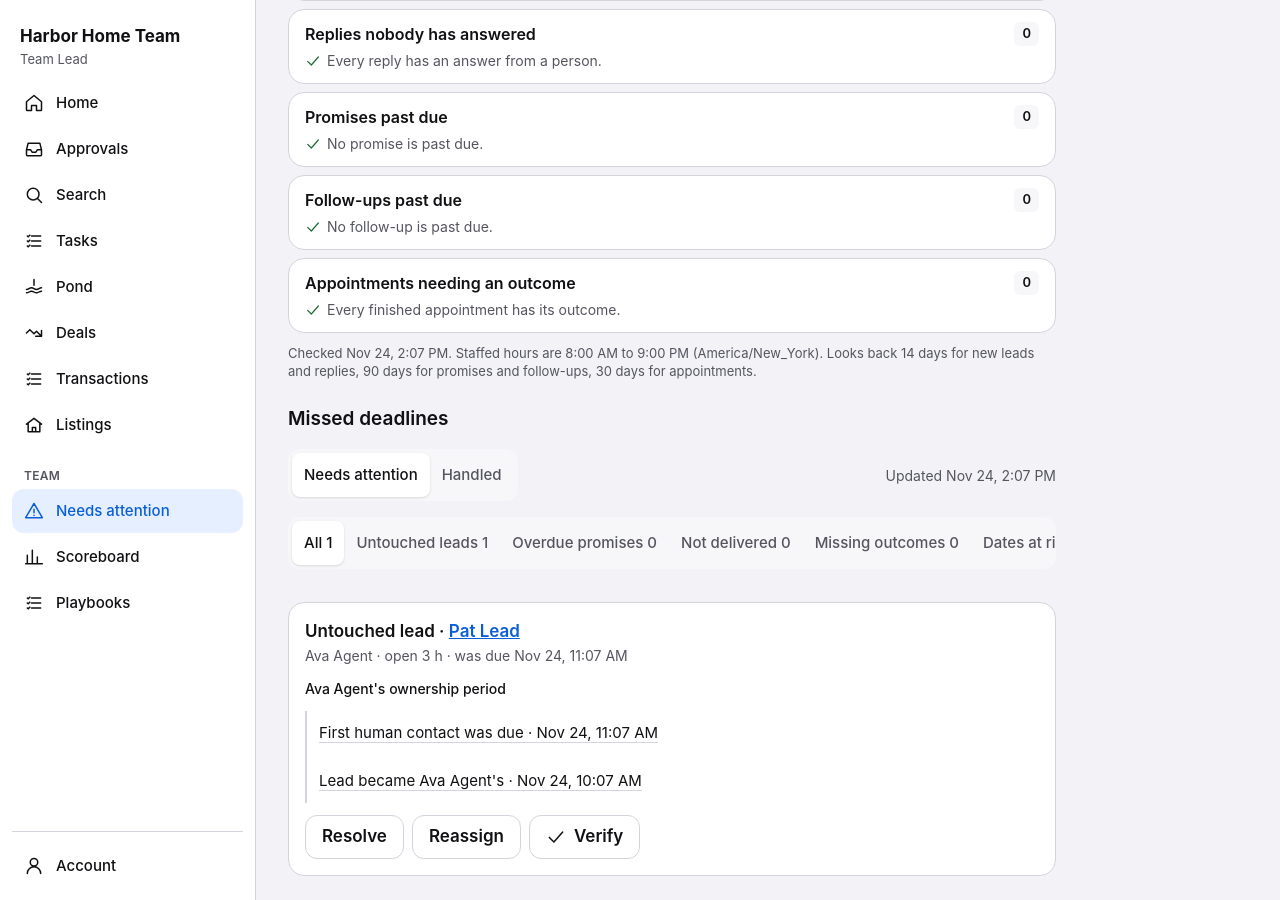
Scenario: Team exception queue › resolve needs a note: the button stays disabled until one is typed, then sends it with a command id
(page scrolled)
Click the button "Resolve" at (354, 837), box 305,815 -> 404,859
(page scrolled)
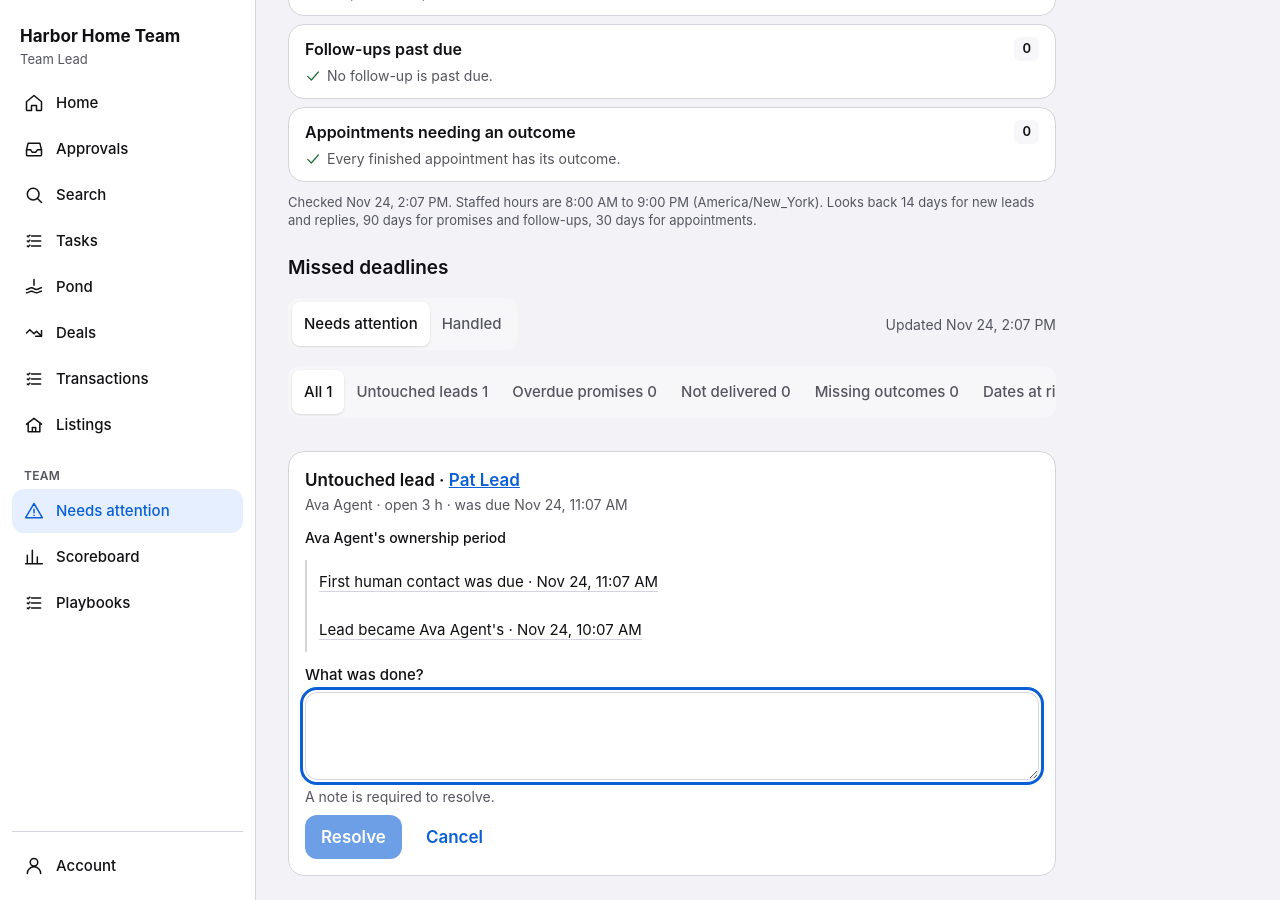
Check: the button "Resolve" is disabled, box 305,815 -> 402,859
Type "Called Pat, booked a showing" into the text box labelled "What was done?" at (672, 736), box 305,692 -> 1039,780
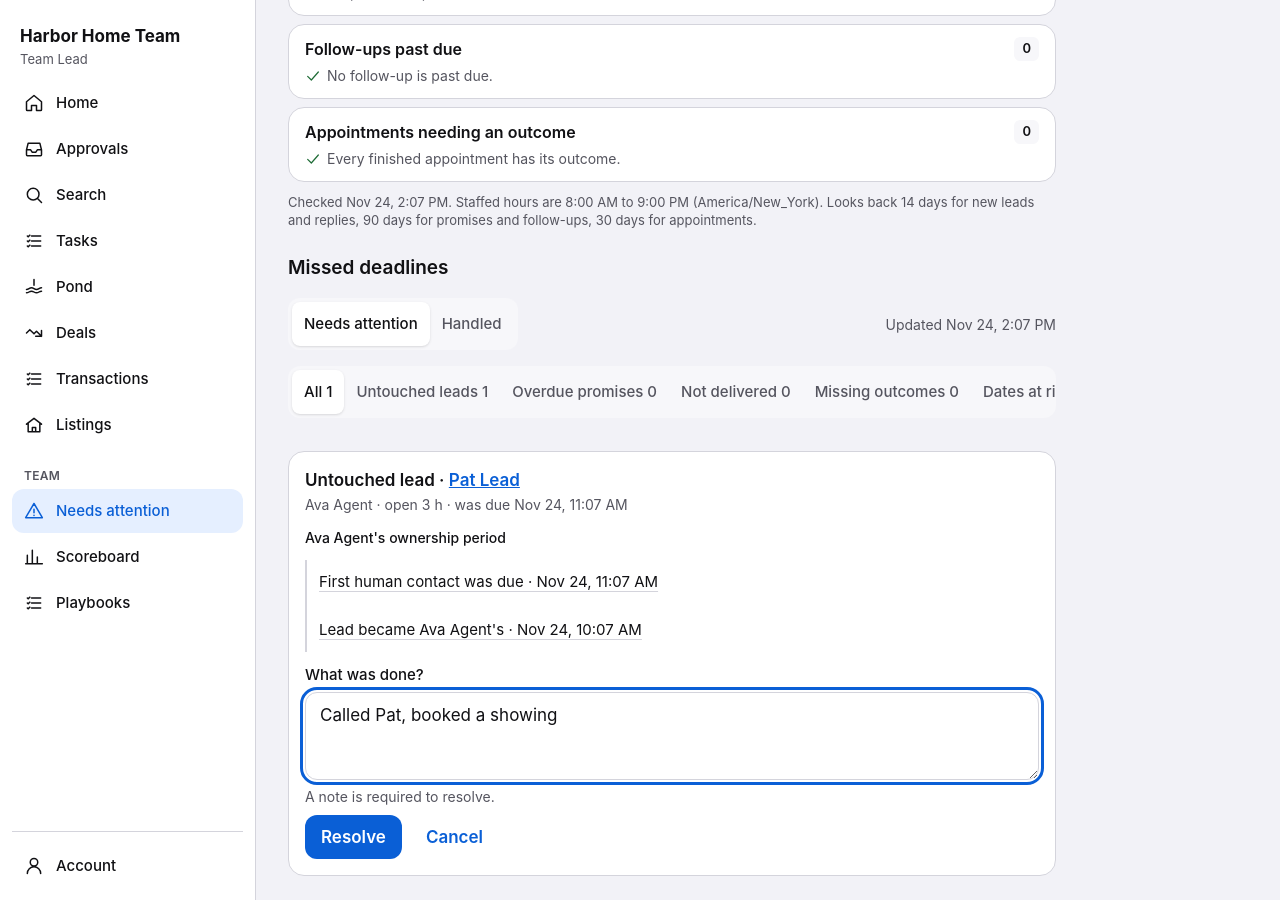
Click the button "Resolve" at (353, 837), box 305,815 -> 402,859
(page scrolled)
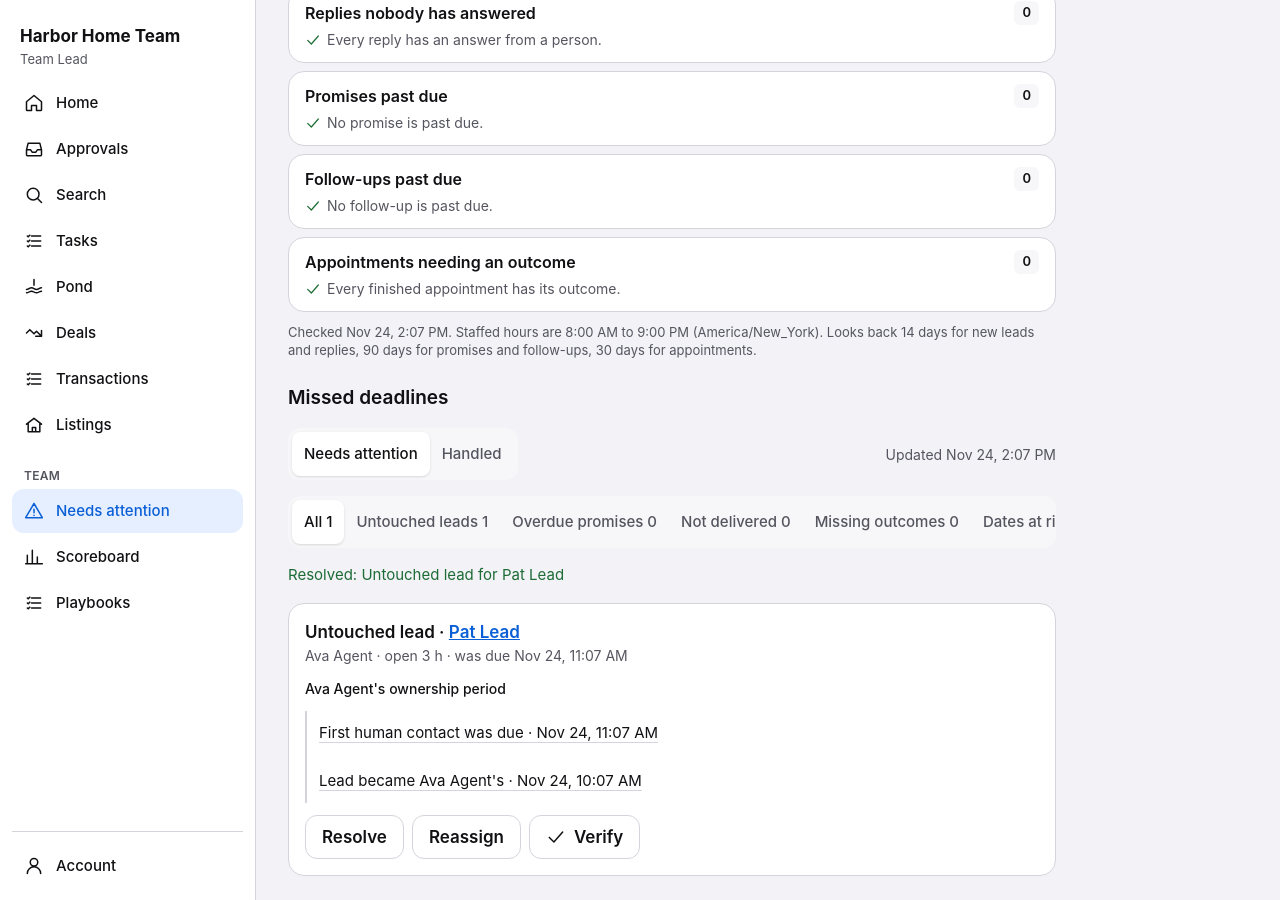
Check: the text "Resolved: Untouched lead for Pat Lead" is shown, box 288,565 -> 564,584
